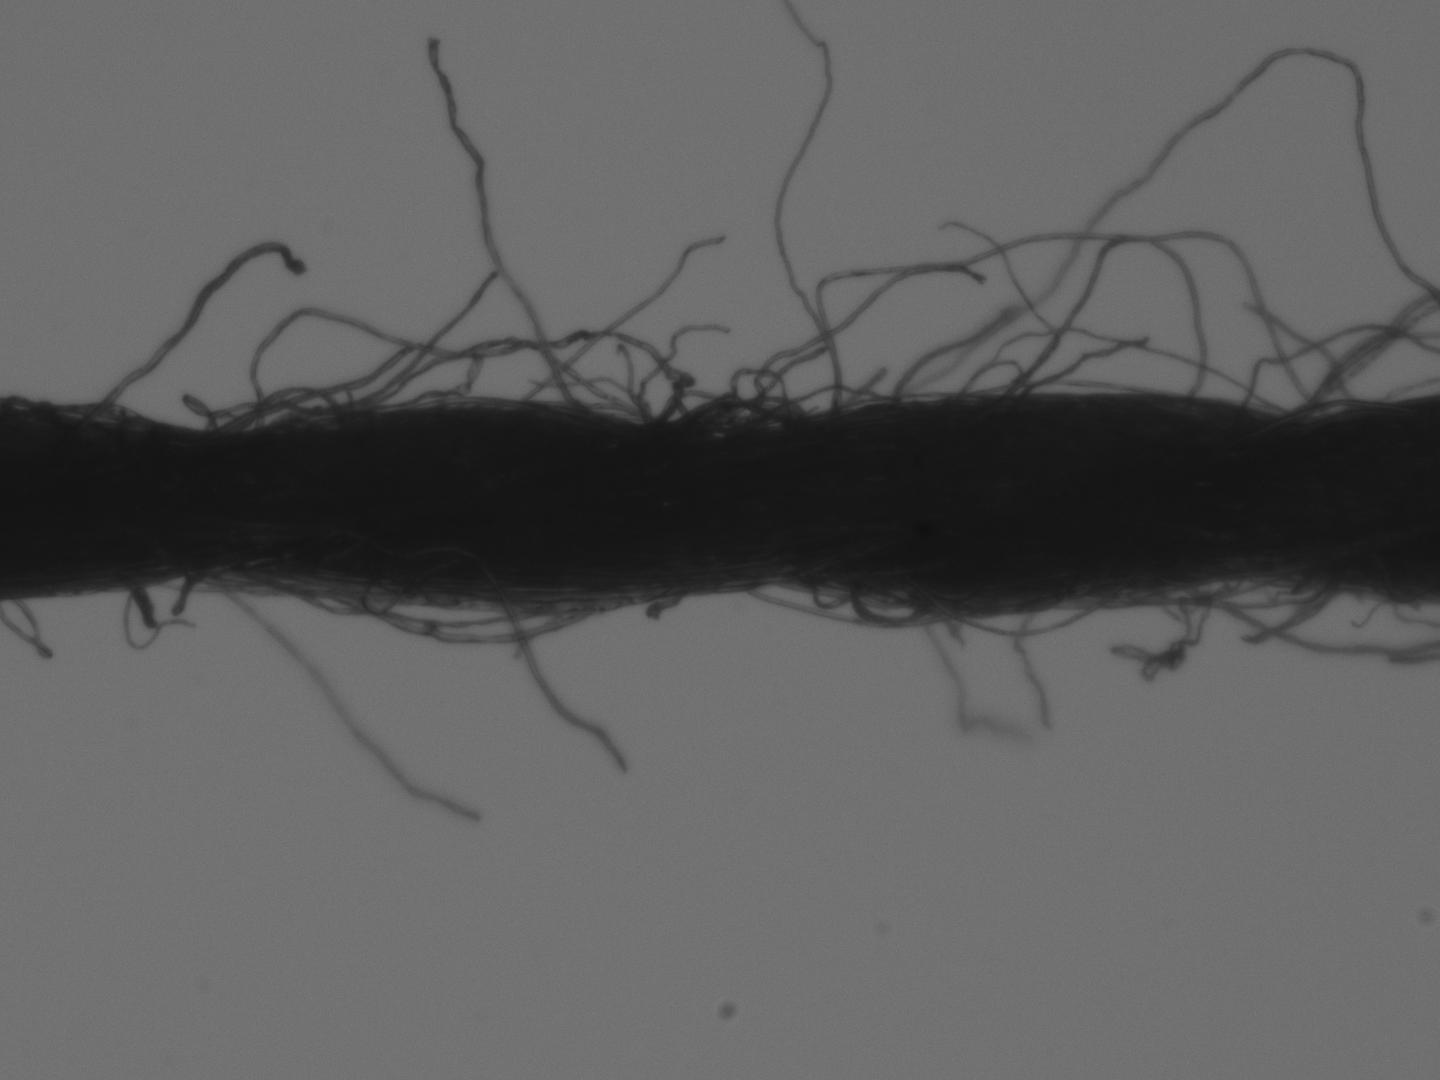loop_fiber: (252, 304, 692, 432), (238, 560, 624, 650), (652, 385, 812, 448), (844, 547, 932, 632), (930, 592, 1101, 635), (204, 379, 342, 432), (1146, 575, 1312, 610), (948, 354, 1037, 408), (1273, 394, 1374, 421)
protruding_fiber: (61, 238, 312, 433), (1023, 330, 1154, 398)
